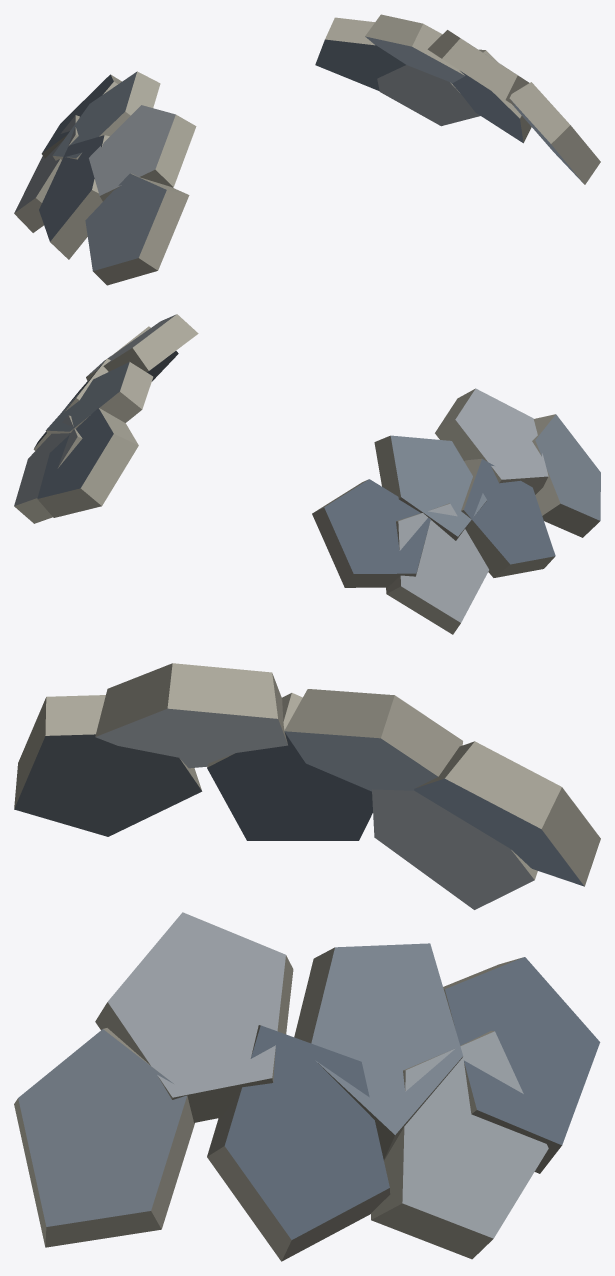
File: rockslide-og-v2-accessories.fbx
3 renders of one model, top to bottom at view 1: azimuth 30°, elevation 25°; view 2: azimuth 150°, elevation 25°; view 3: azimuth 270°, elevation 25°, orthographic. The views are drawn at different scales.
Parts seen in each view (by area): view 1: SlatePlate_-1_0, SlatePlate_-1_1, SlatePlate_-1_2, SlatePlate_1_5, SlatePlate_1_4, SlatePlate_1_0, SlatePlate_-1_3, SlatePlate_1_3, SlatePlate_1_1, SlatePlate_1_2, SlatePlate_-1_4, SlatePlate_-1_5; view 2: SlatePlate_-1_5, SlatePlate_-1_2, SlatePlate_-1_4, SlatePlate_-1_3, SlatePlate_-1_1, SlatePlate_1_5, SlatePlate_-1_0, SlatePlate_1_3, SlatePlate_1_1, SlatePlate_1_4, SlatePlate_1_2; view 3: SlatePlate_1_0, SlatePlate_1_2, SlatePlate_1_1, SlatePlate_1_4, SlatePlate_1_3, SlatePlate_1_5, SlatePlate_-1_0, SlatePlate_-1_1, SlatePlate_-1_5, SlatePlate_-1_3, SlatePlate_-1_2, SlatePlate_-1_4.
Part boxes in pixels (box(x1,y1,x2,y2)): SlatePlate_-1_0: box(85, 173, 189, 285); SlatePlate_-1_1: box(89, 105, 196, 201); SlatePlate_-1_2: box(39, 135, 109, 259); SlatePlate_1_5: box(315, 17, 405, 90); SlatePlate_1_4: box(377, 65, 480, 126); SlatePlate_1_0: box(509, 82, 600, 184); SlatePlate_-1_3: box(52, 71, 160, 160); SlatePlate_1_3: box(365, 14, 464, 83); SlatePlate_1_1: box(427, 30, 529, 106); SlatePlate_1_2: box(452, 49, 531, 143); SlatePlate_-1_4: box(14, 115, 79, 232); SlatePlate_-1_5: box(41, 74, 121, 158); SlatePlate_-1_5: box(312, 479, 430, 587); SlatePlate_-1_2: box(461, 458, 555, 577); SlatePlate_-1_4: box(386, 503, 488, 634); SlatePlate_-1_3: box(374, 435, 486, 540); SlatePlate_-1_1: box(435, 388, 548, 494); SlatePlate_1_5: box(37, 408, 138, 517); SlatePlate_-1_0: box(532, 414, 600, 537); SlatePlate_1_3: box(45, 362, 153, 435); SlatePlate_1_1: box(86, 314, 198, 381); SlatePlate_1_4: box(14, 415, 82, 523); SlatePlate_1_2: box(33, 358, 110, 450); SlatePlate_1_0: box(14, 1028, 194, 1247); SlatePlate_1_2: box(207, 1025, 390, 1261); SlatePlate_1_1: box(95, 912, 293, 1122); SlatePlate_1_4: box(371, 1031, 548, 1259); SlatePlate_1_3: box(294, 943, 462, 1160); SlatePlate_1_5: box(443, 957, 600, 1173); SlatePlate_-1_0: box(14, 695, 202, 836); SlatePlate_-1_1: box(95, 663, 287, 768); SlatePlate_-1_5: box(414, 741, 600, 886); SlatePlate_-1_3: box(284, 689, 462, 791); SlatePlate_-1_2: box(207, 693, 372, 840); SlatePlate_-1_4: box(372, 789, 537, 909).
Bounding box in the file's own units: 1150 × 374 × 645.
